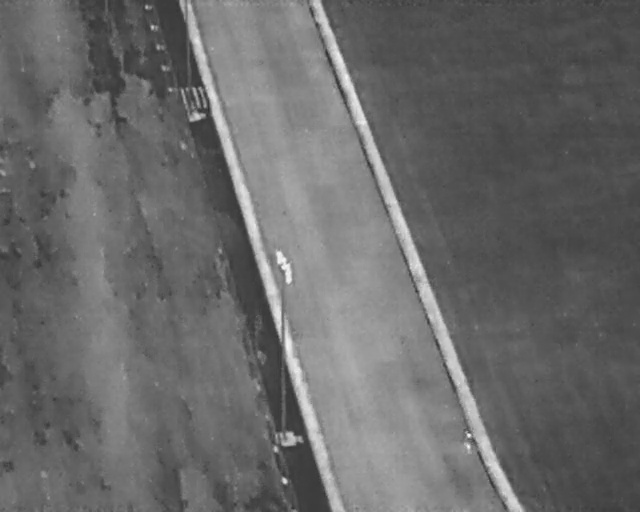Person: (463, 428, 473, 455), (282, 263, 294, 284), (276, 250, 287, 266)
